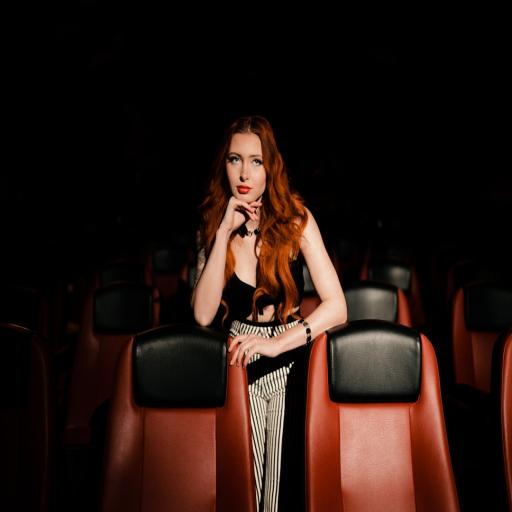face: (227, 134, 266, 203)
